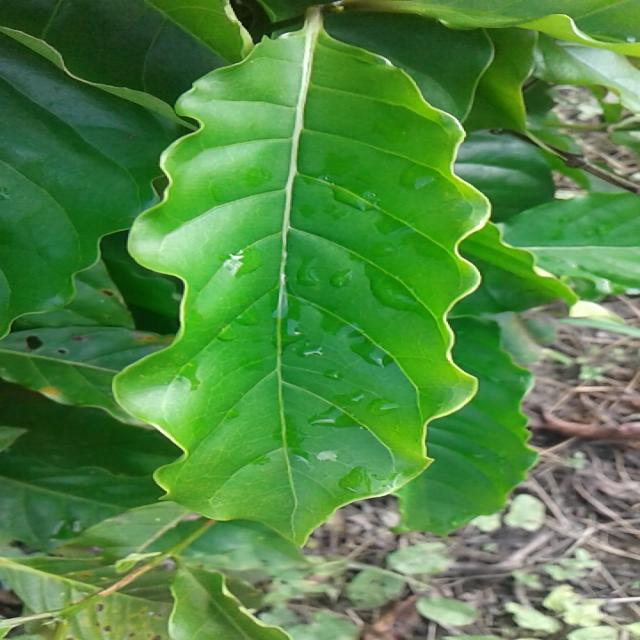Sanas: (110, 10, 491, 548)
